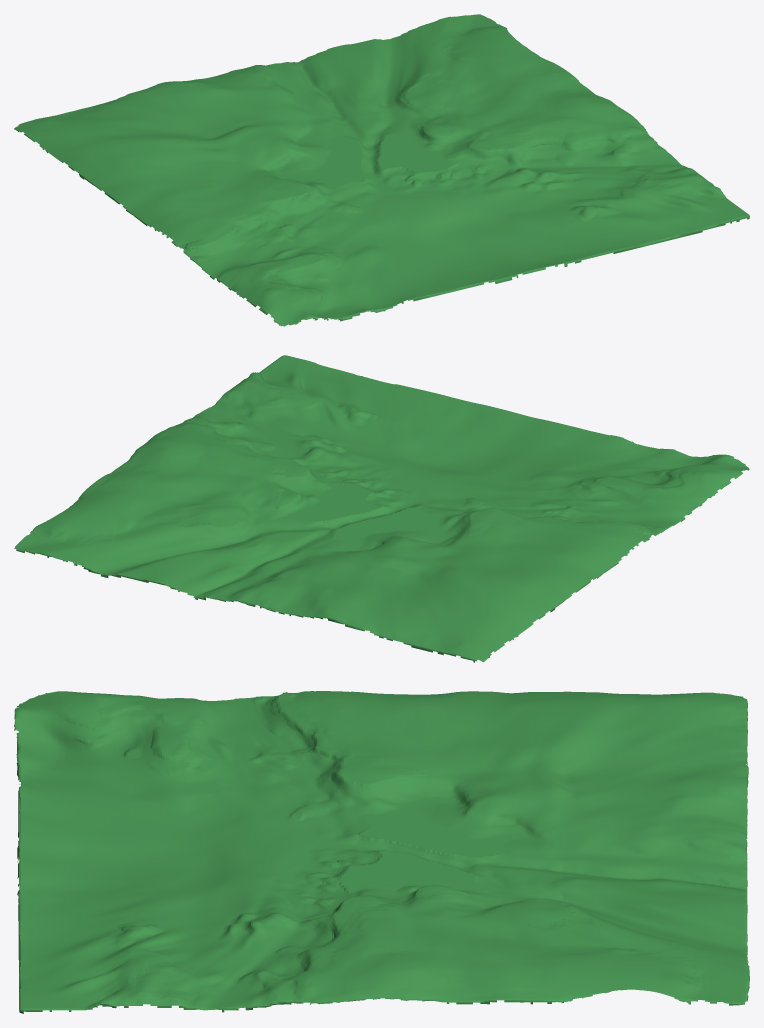
File: map-finale2.fbx
The picture shows the model from 3 angles, top to bottom: view 1: azimuth 30°, elevation 25°; view 2: azimuth 150°, elevation 25°; view 3: azimuth 270°, elevation 25°; orthographic projection. The views are drawn at different scales.
Visible parts, largest first — view 1: map_export; view 2: map_export; view 3: map_export.
Boxes of the visible parts, x1,y1,x2,y2 form: map_export: [14, 14, 749, 326]; map_export: [14, 355, 749, 662]; map_export: [14, 691, 749, 1013].
Size of the model in its own units: 13375 by 774 by 13313.
